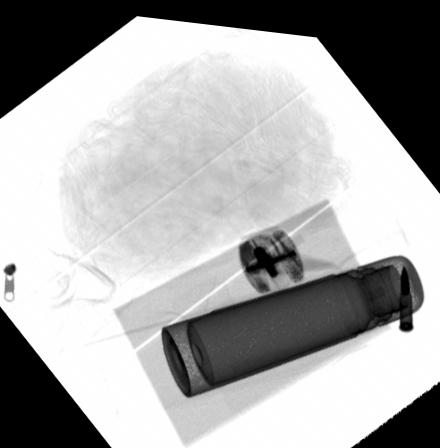Bullet: (398, 253, 414, 323)
